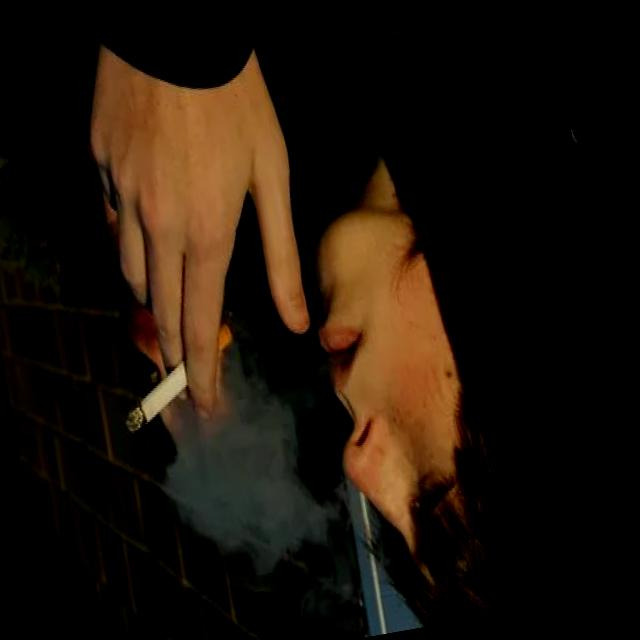cigarette: (106, 312, 249, 438)
